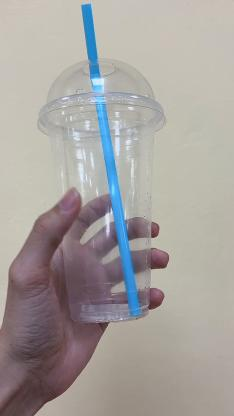Plastic Cup: (38, 56, 168, 324)
